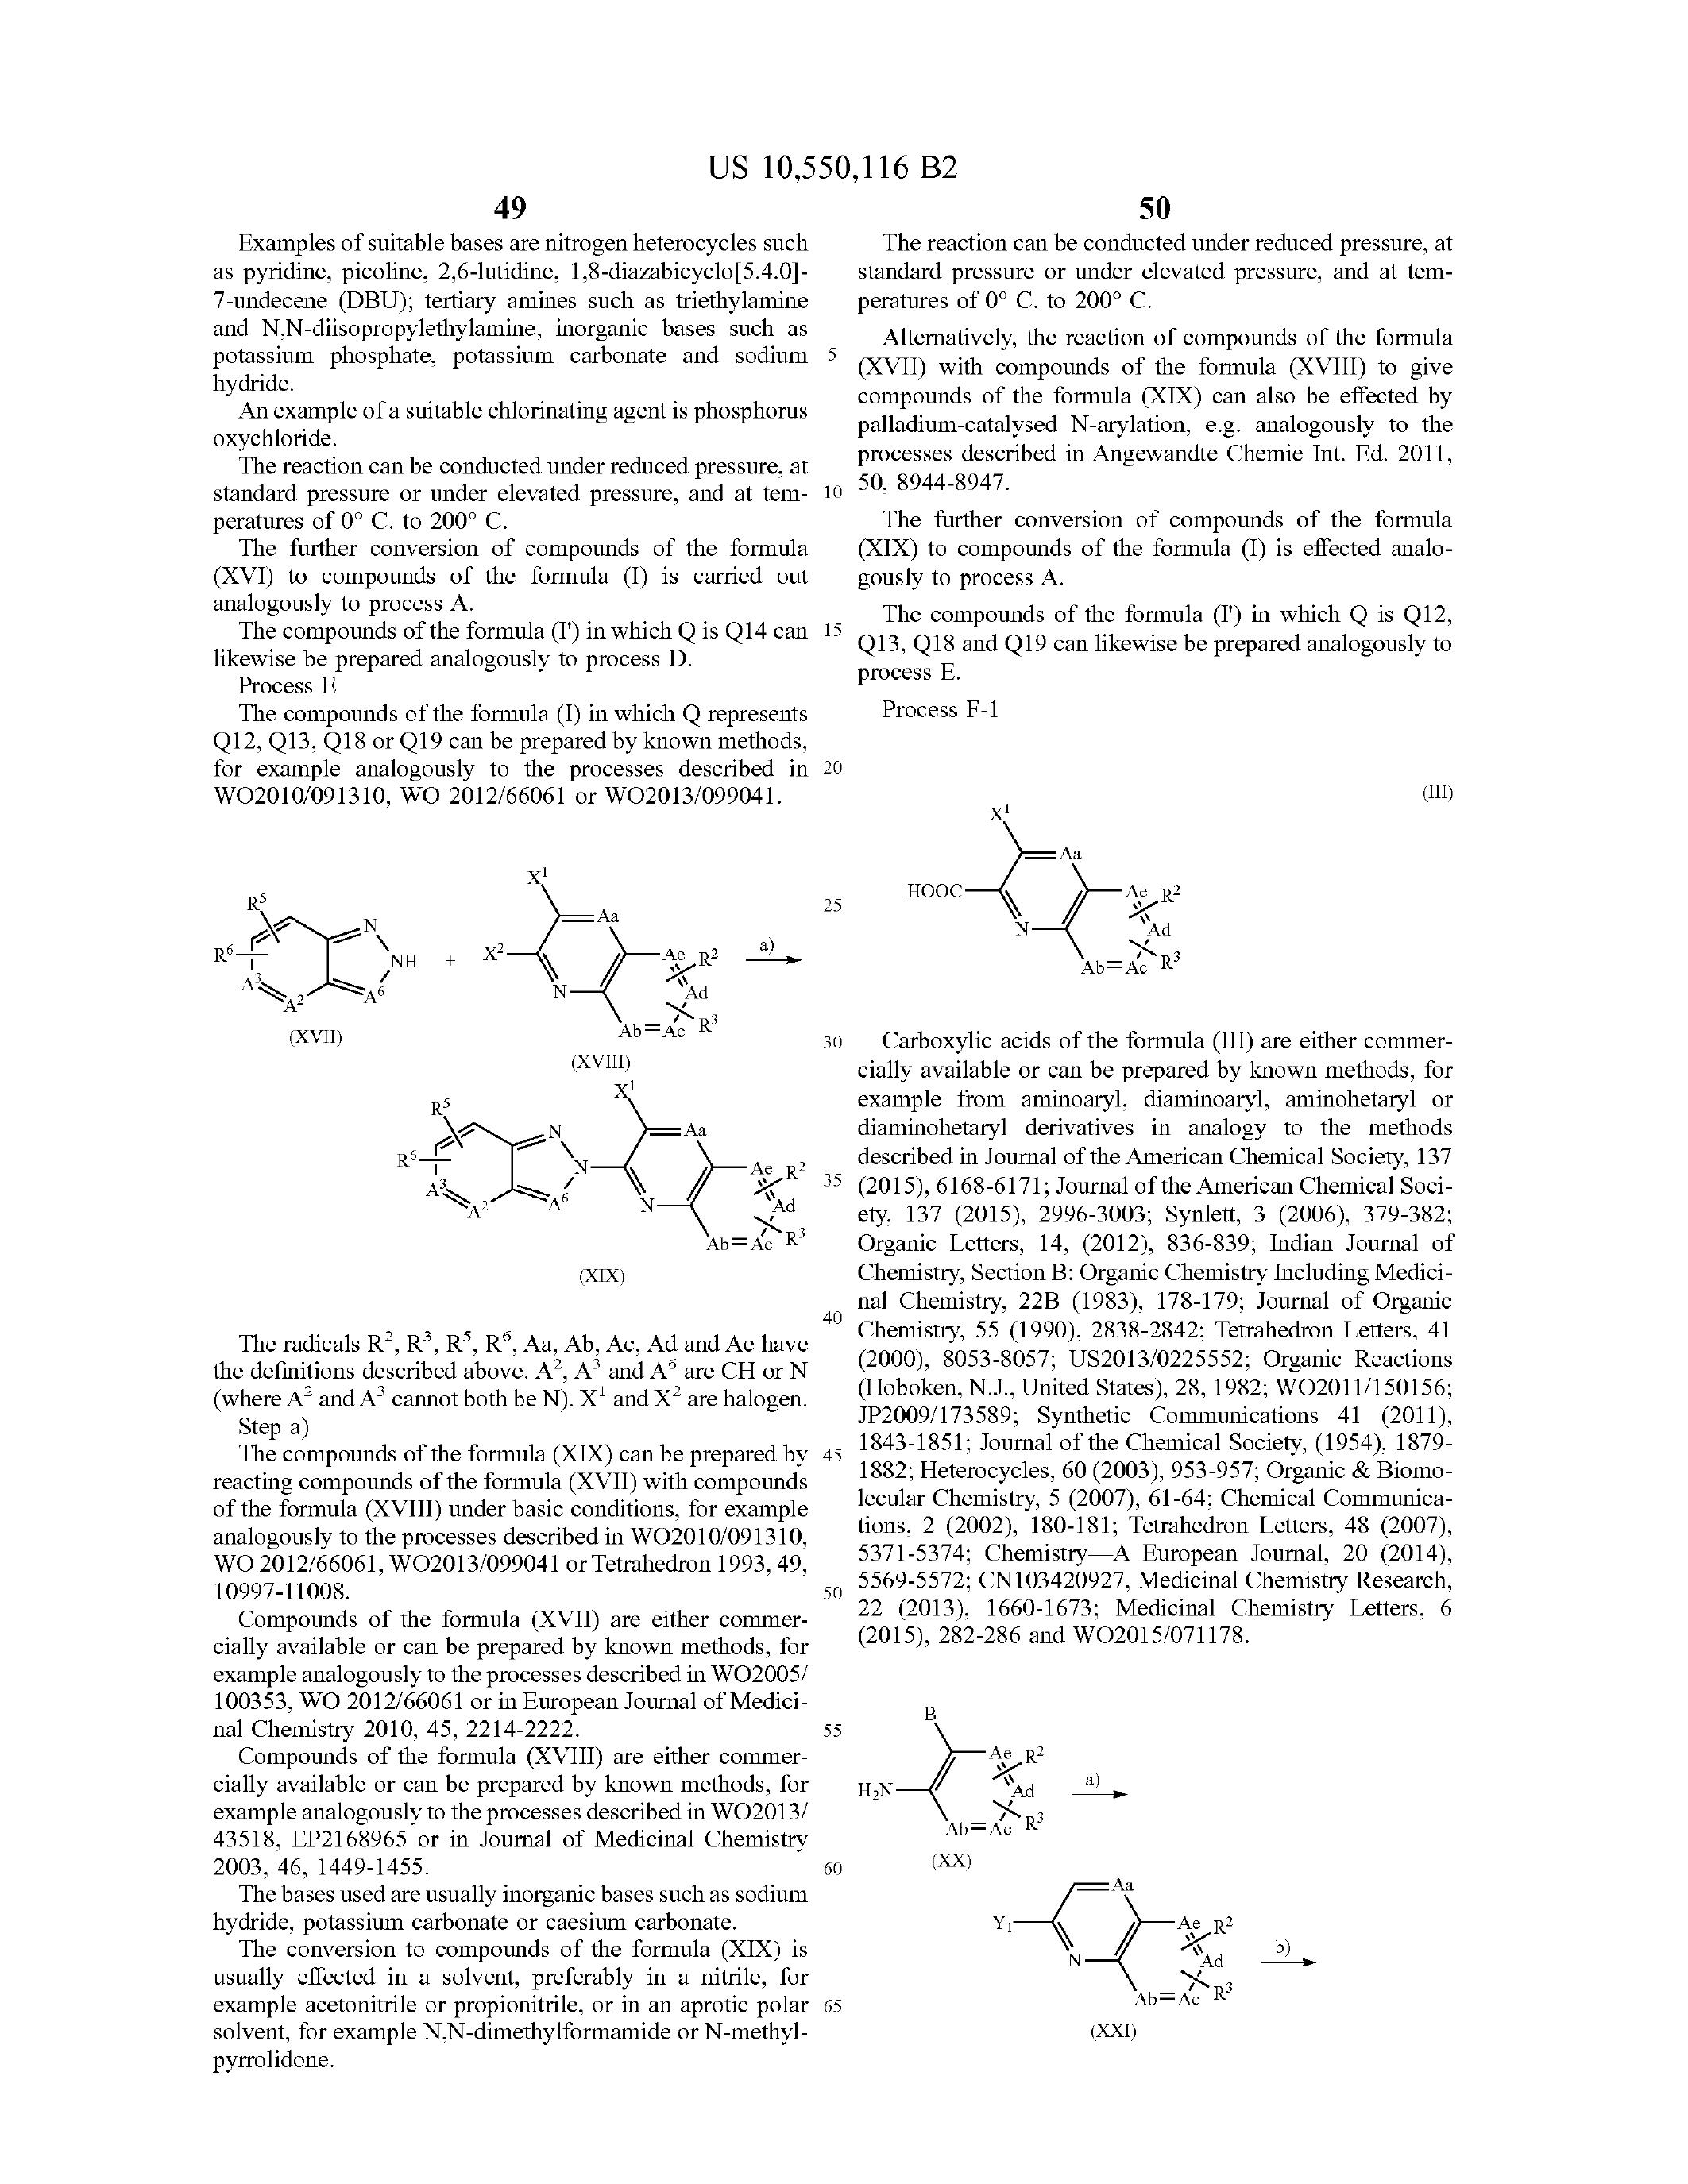reactions: (119, 833, 817, 1296)
